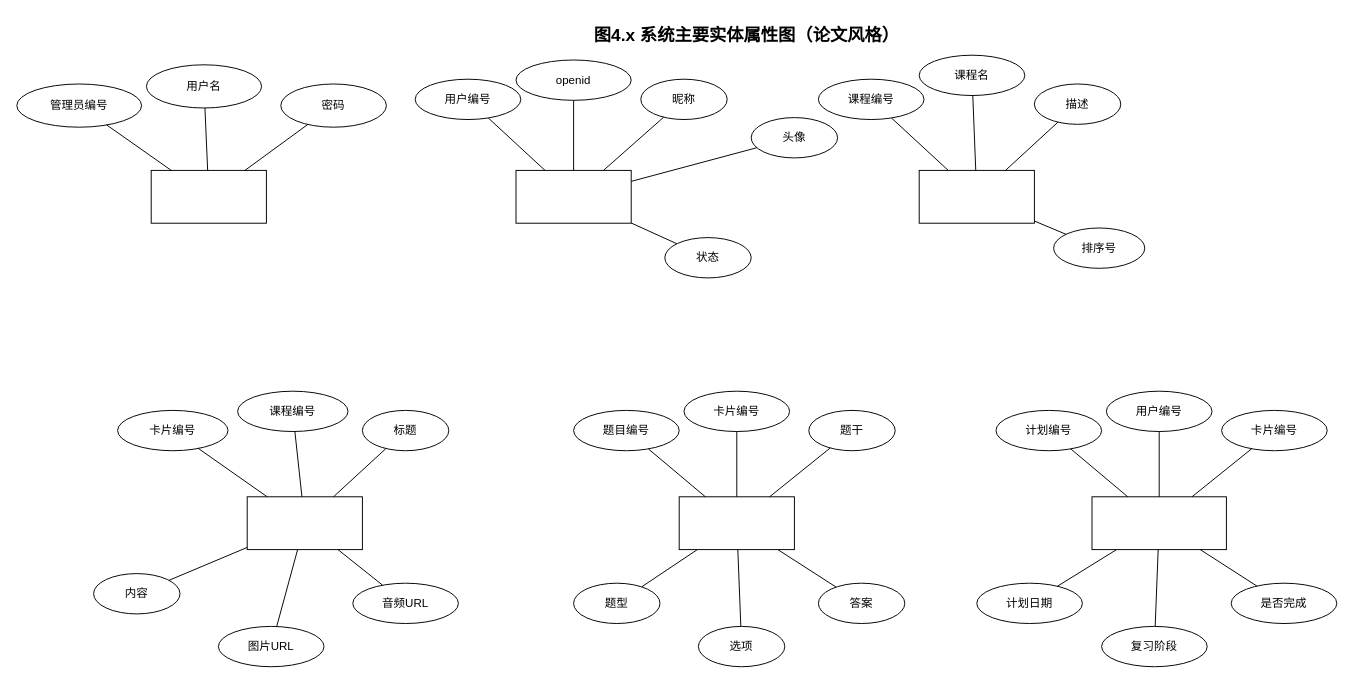
Some shapes in this 1354 by 684 pixel diagram are drawn without their labels. Each missing label, with the centre of its shape:
"卡片" belongs at (x=304, y=523).
"复习计划" belongs at (x=1158, y=523).
"学习用户" belongs at (x=573, y=196).
"管理员" belongs at (x=208, y=196).
"课程" belongs at (x=976, y=196).
"题目" belongs at (x=736, y=523).
